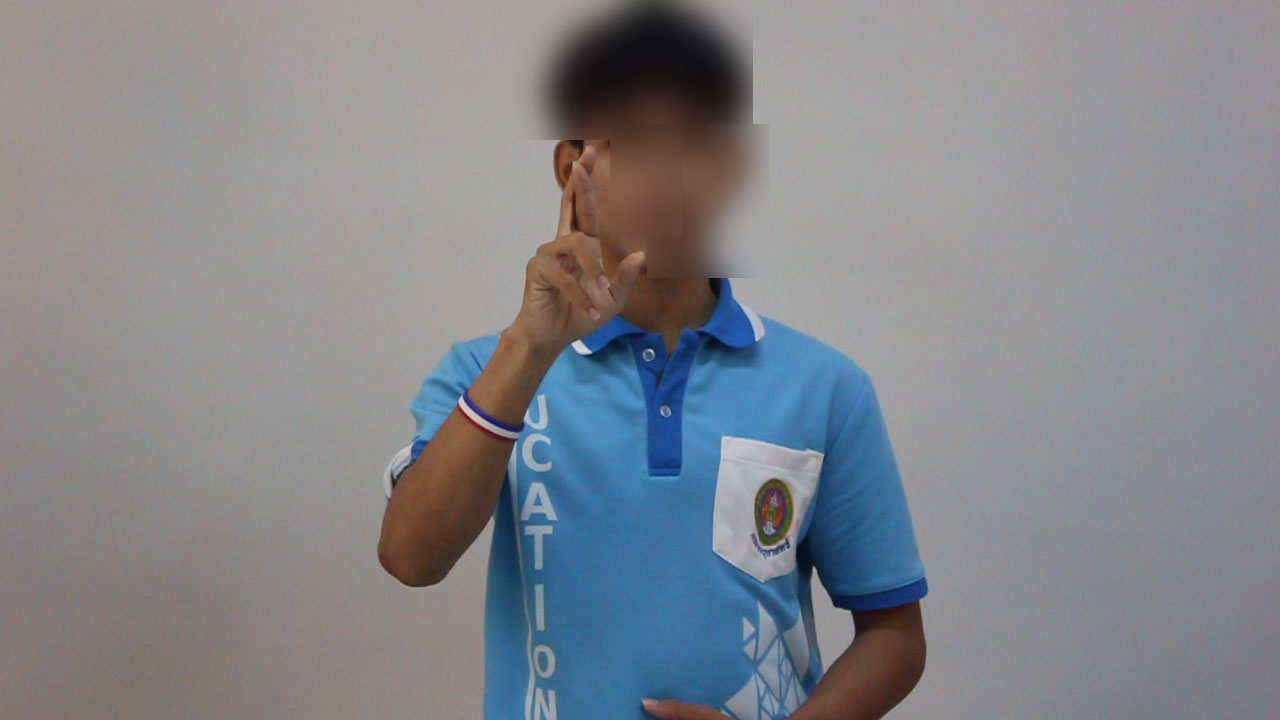rao: (473, 134, 649, 352)
